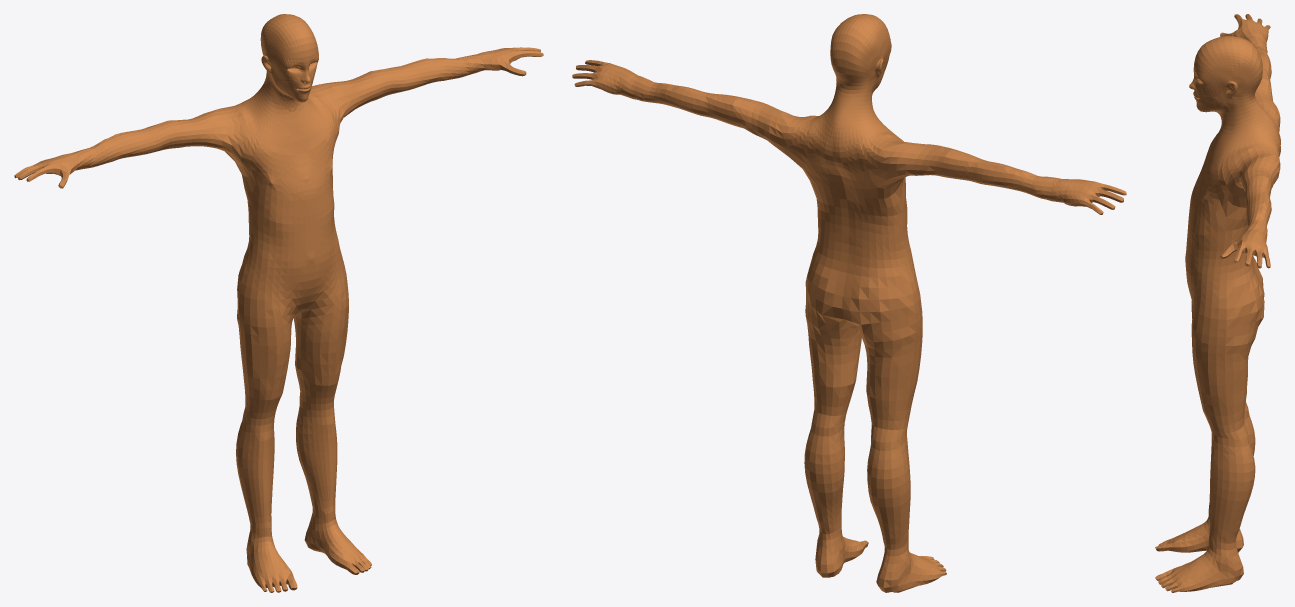
3 renders of one model, left to right at view 1: azimuth 30°, elevation 25°; view 2: azimuth 150°, elevation 25°; view 3: azimuth 270°, elevation 25°, orthographic. The views are drawn at different scales.
Visible parts, largest first — view 1: Group1; view 2: Group1; view 3: Group1.
Part boxes in pixels (x1=…): Group1: x1=14, y1=14, x2=543, y2=592; Group1: x1=572, y1=14, x2=1126, y2=592; Group1: x1=1155, y1=14, x2=1280, y2=592.
Size of the model in its own units: 33.74 by 33.32 by 7.18.
1 material, 1 textured.
